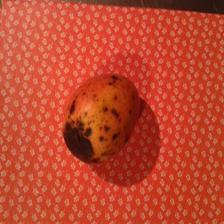Mango Semirotten: (59, 69, 140, 163)
